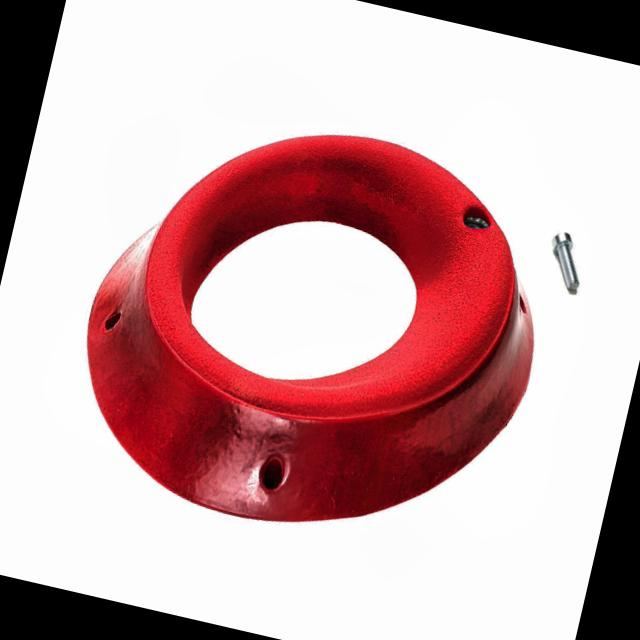Hold: (54, 80, 580, 579)
